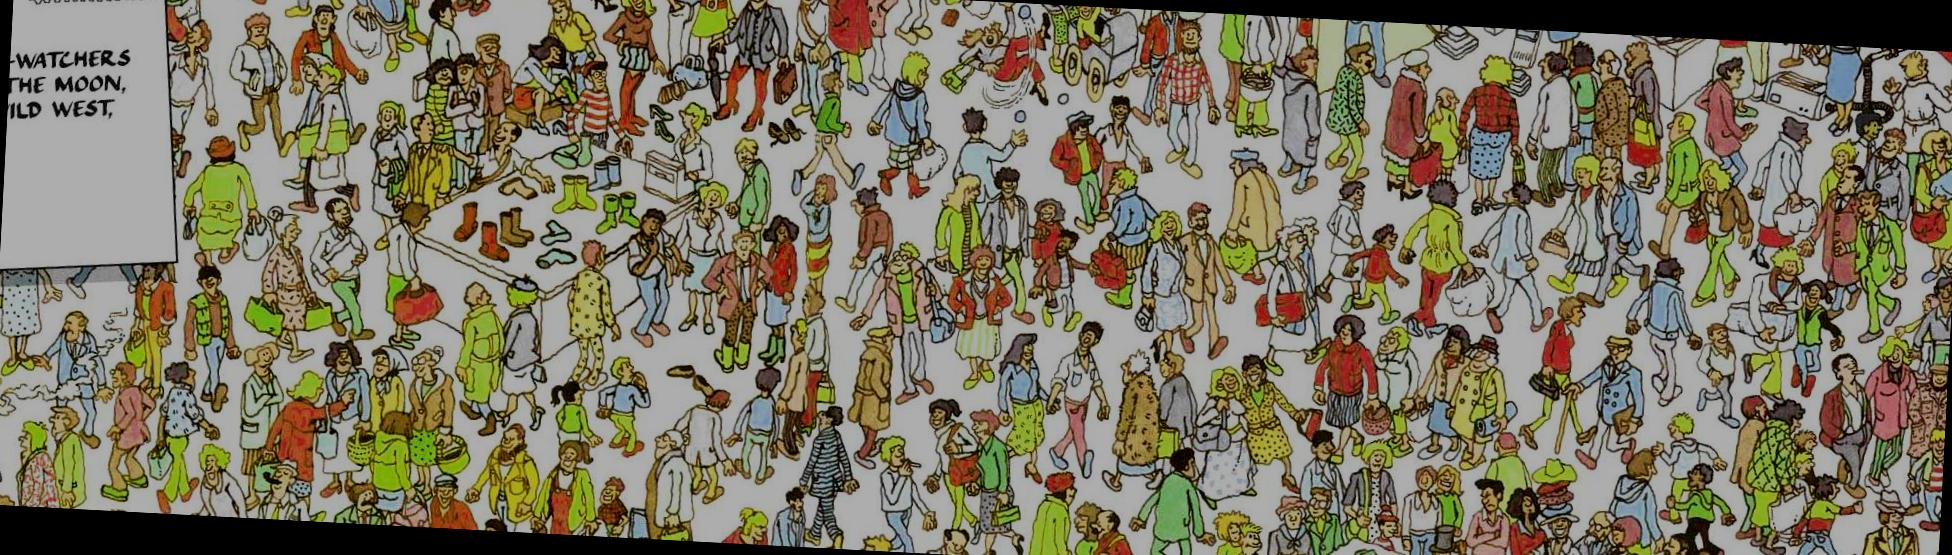waldo: (571, 58, 611, 92)
